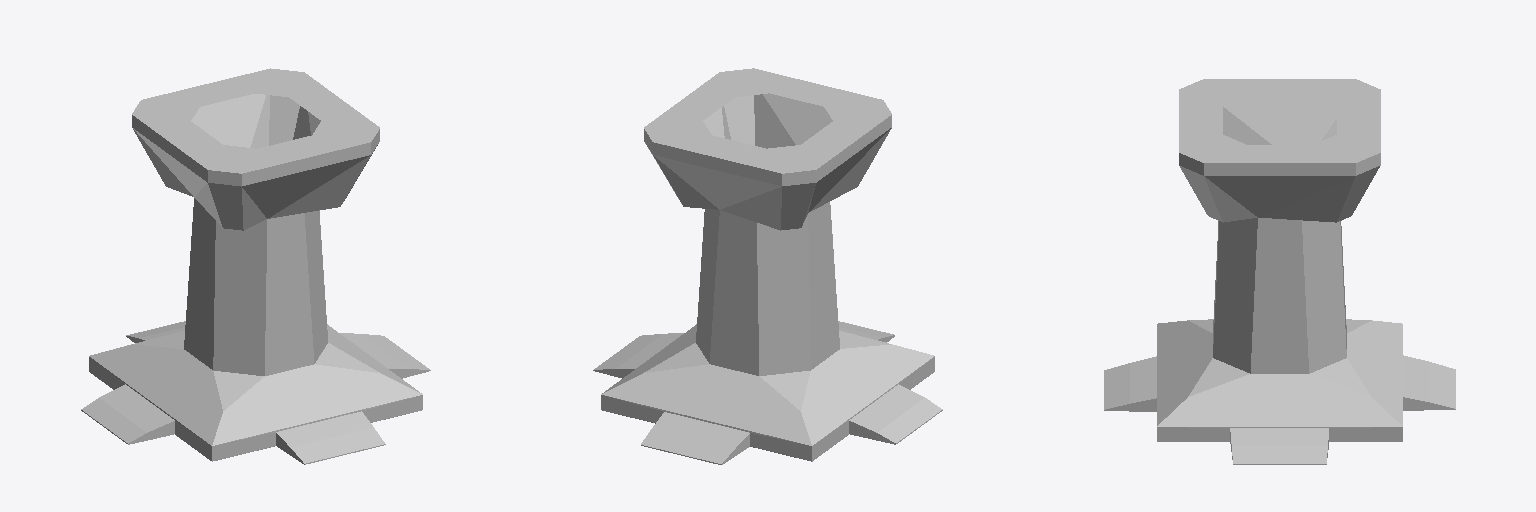
Rendered from Stoyanka 1.obj.
3 views of the same model, side by side, from view 1: azimuth 30°, elevation 25°; view 2: azimuth 150°, elevation 25°; view 3: azimuth 270°, elevation 25° (orthographic).
Parts seen in each view (by area): view 1: Stoyanka; view 2: Stoyanka; view 3: Stoyanka.
Part boxes in pixels (left/top/right/bottom): Stoyanka: left=81, top=68, right=430, bottom=464; Stoyanka: left=593, top=68, right=942, bottom=464; Stoyanka: left=1104, top=79, right=1455, bottom=464.
Size of the model in its own units: 44.78 by 38.15 by 45.13.